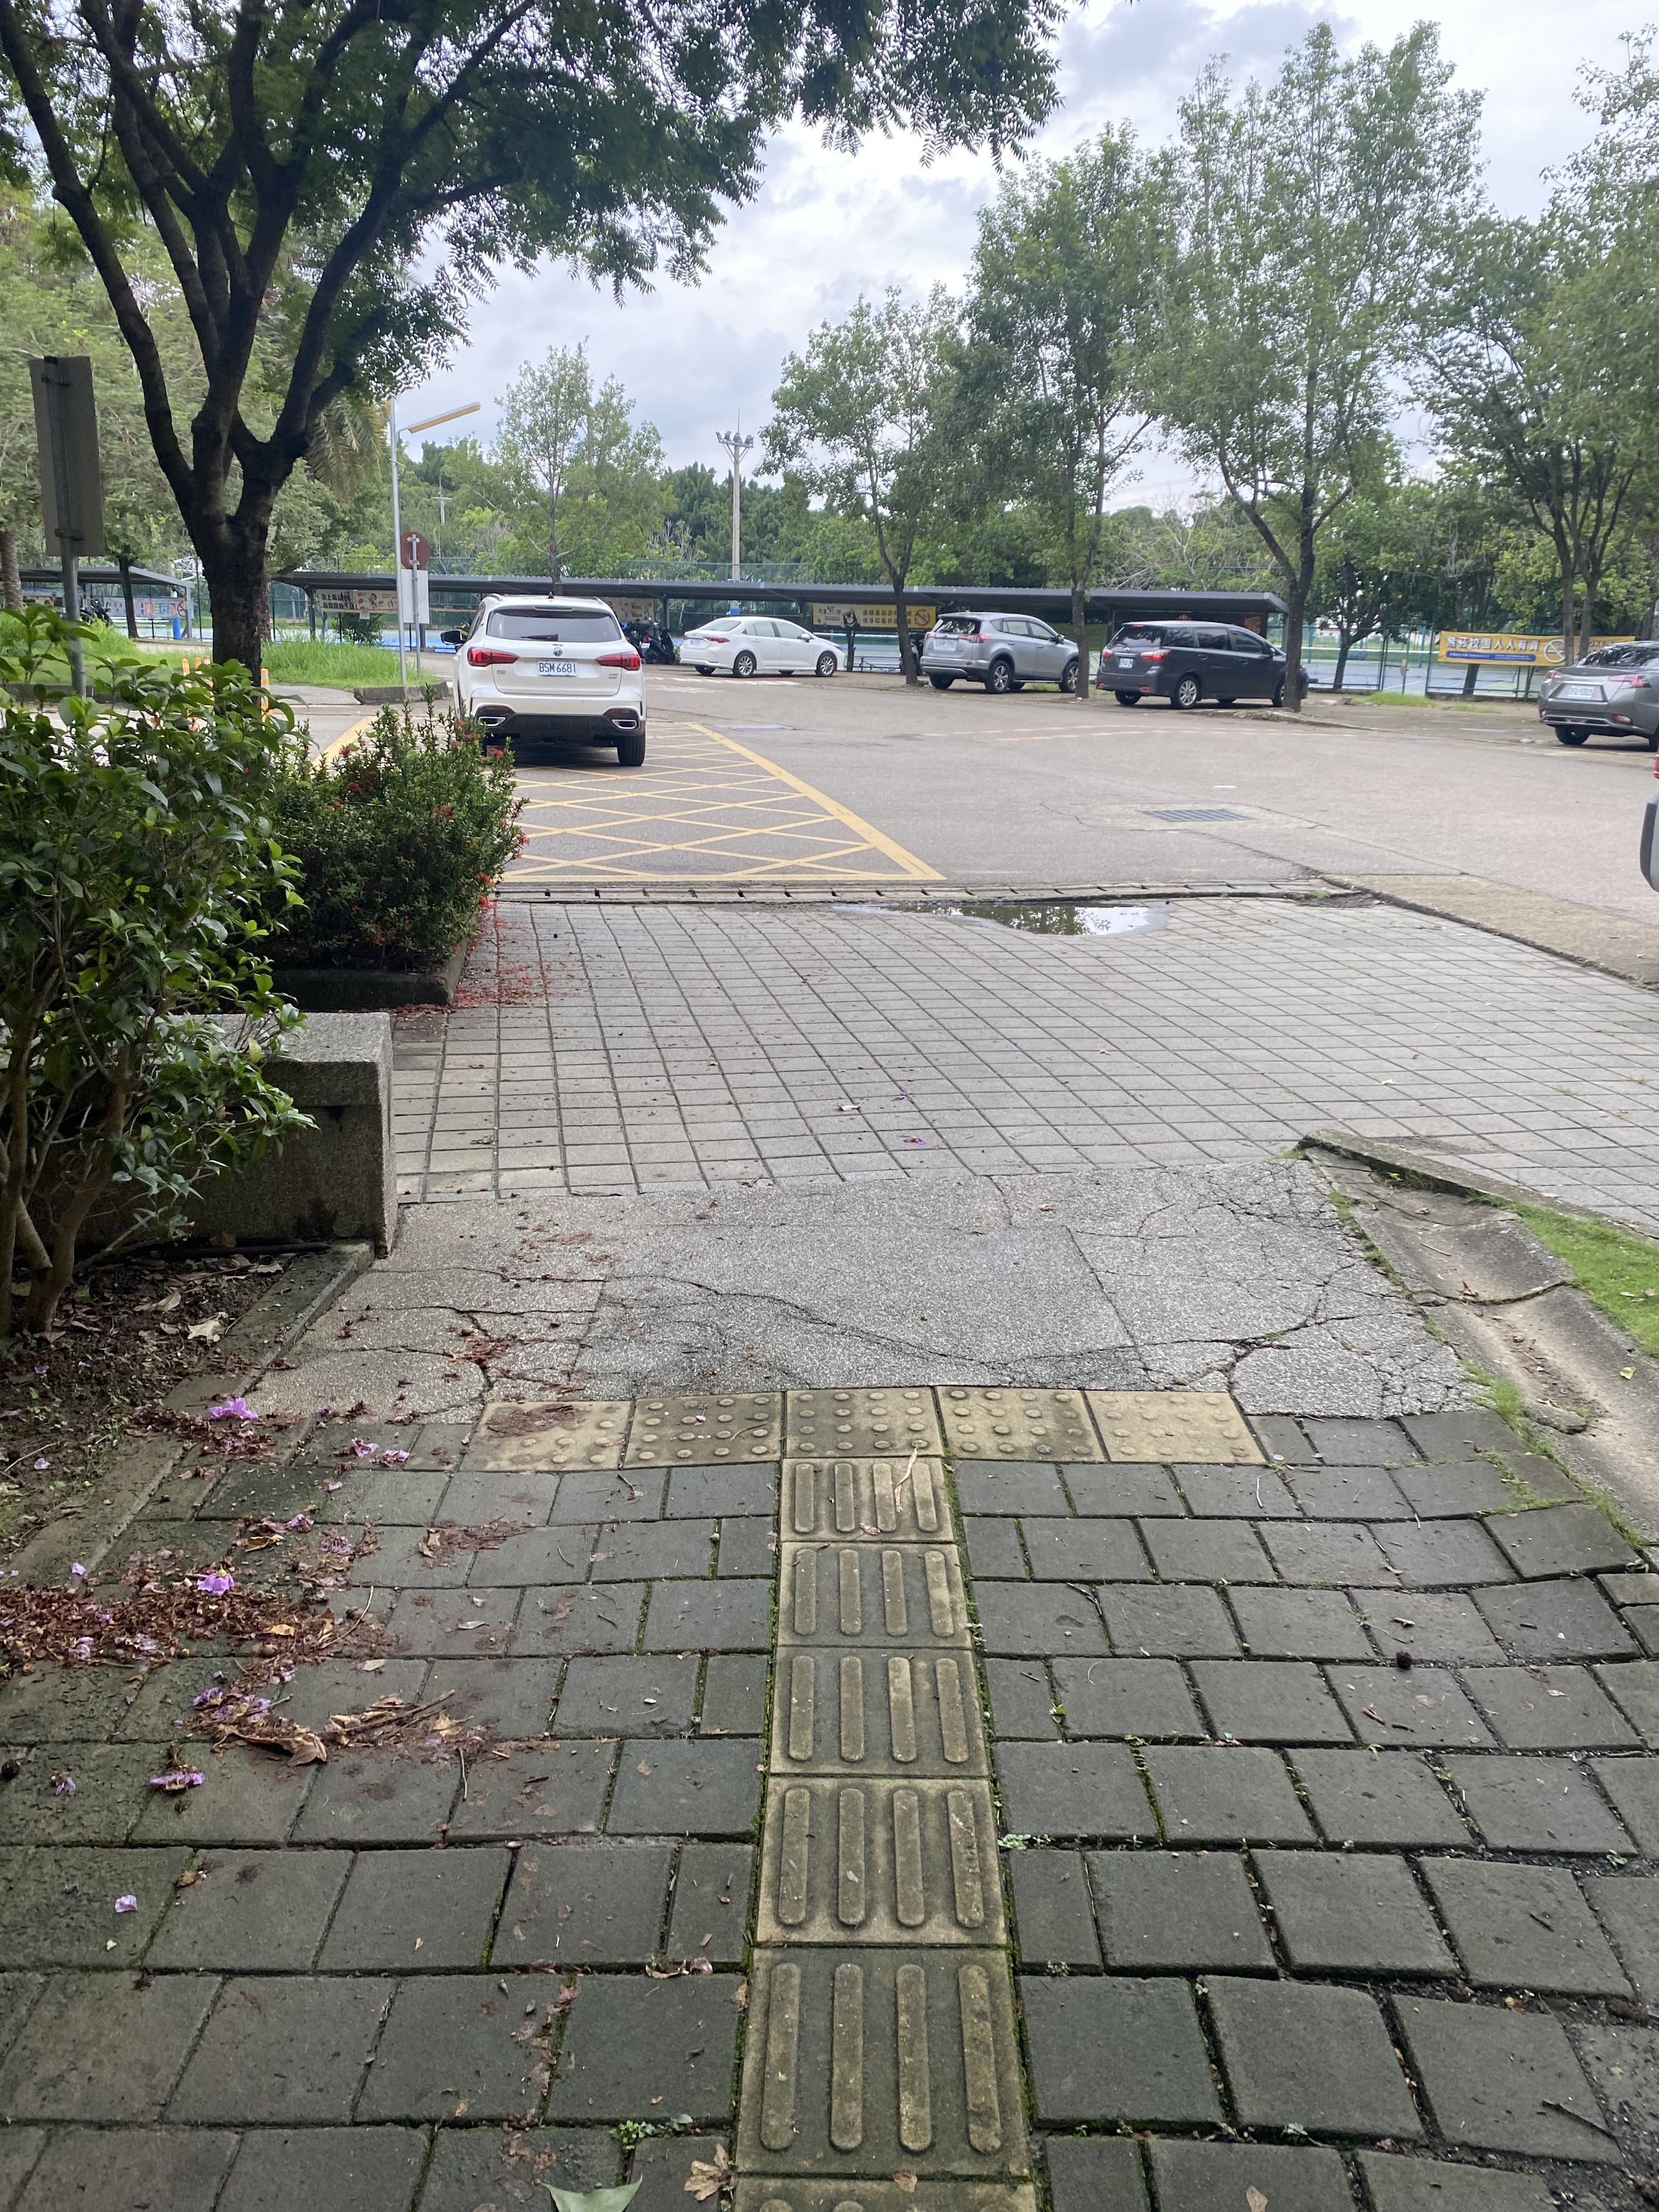sidewalk: (0, 820, 1659, 2212)
